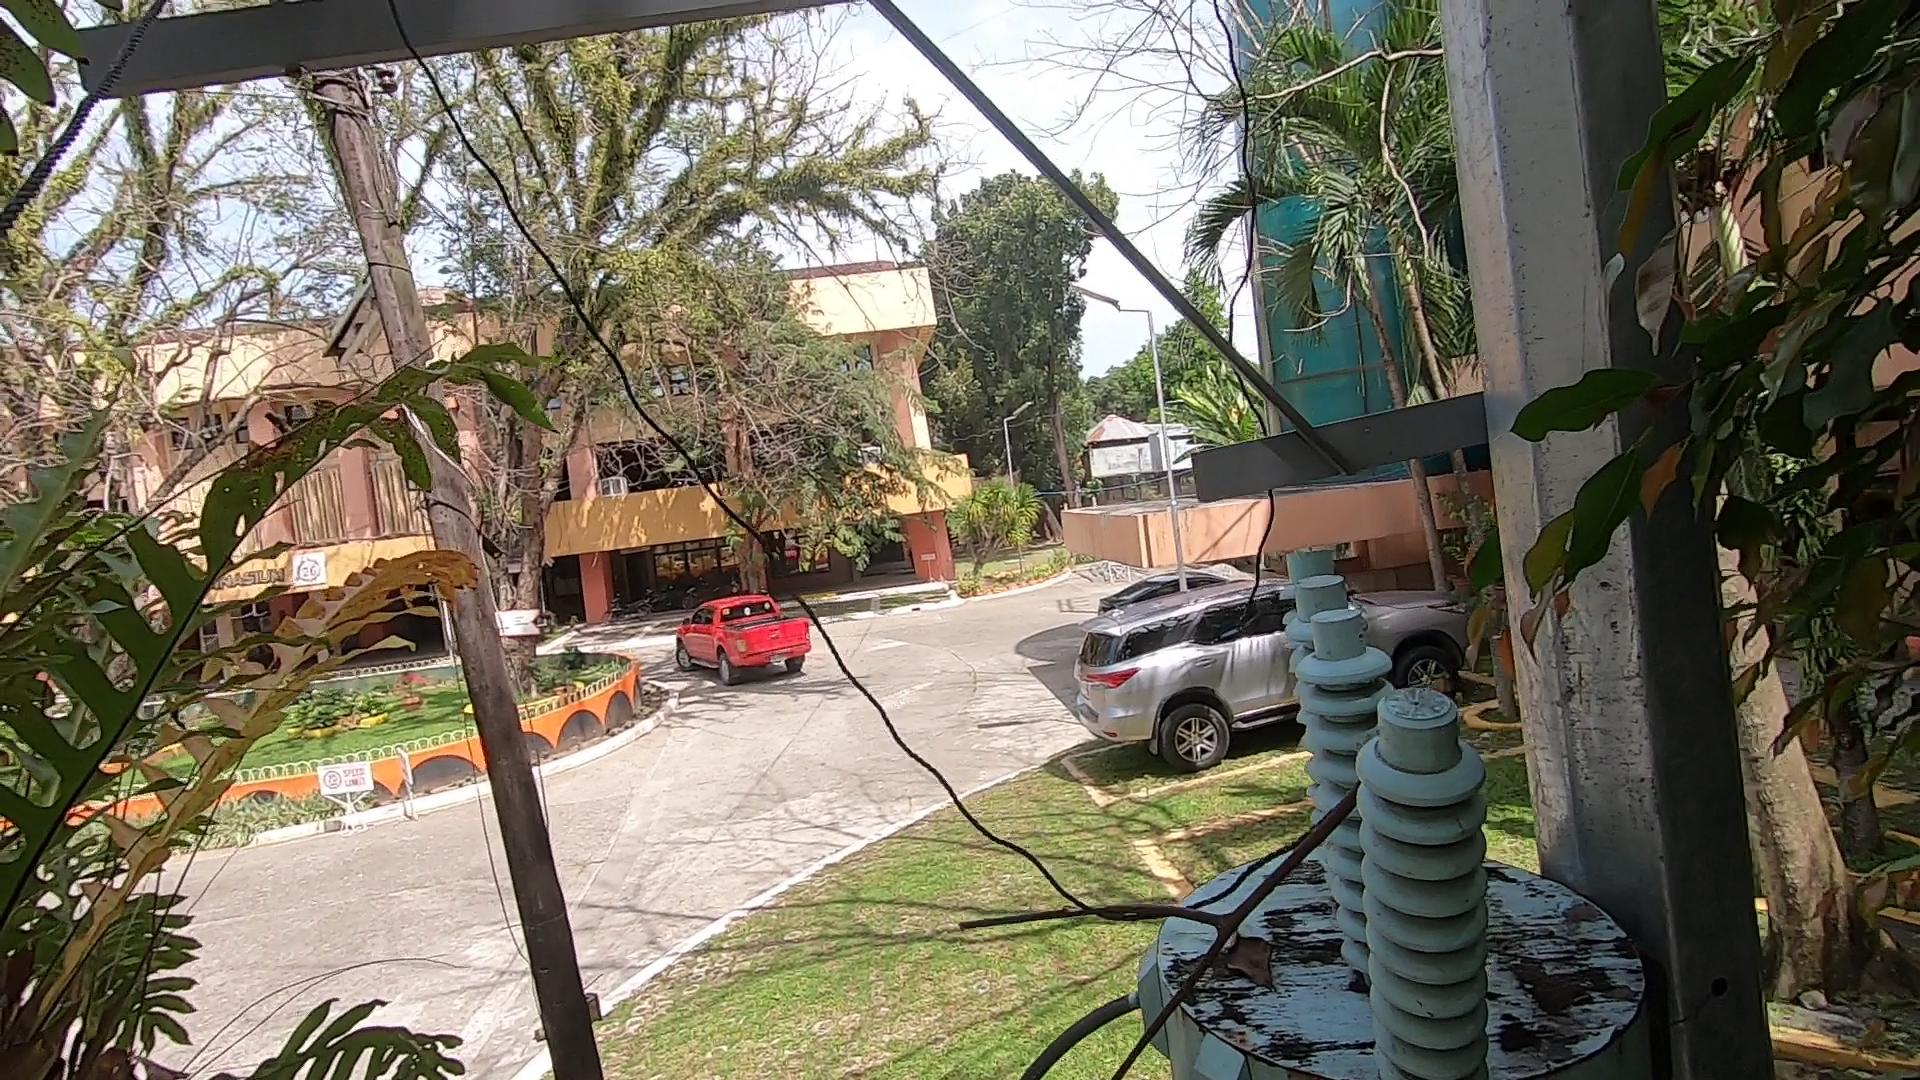leaf: (1215, 920, 1295, 1014)
tree branch: (915, 781, 1378, 1080)
